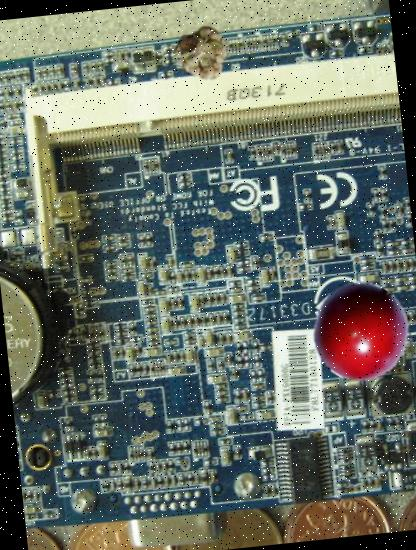Cauliflower: (172, 22, 232, 82)
Tamarillo: (306, 278, 415, 386)
